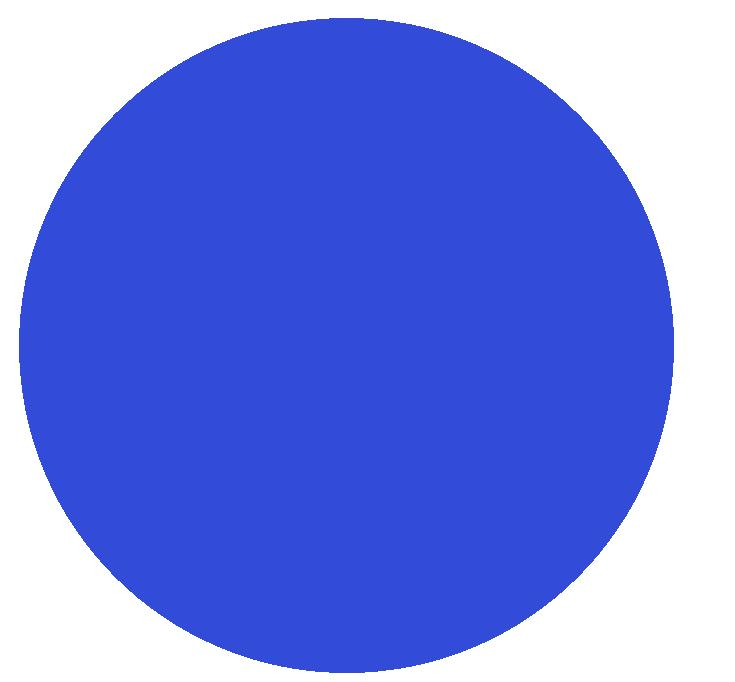blue_circle: (6, 15, 684, 682)
